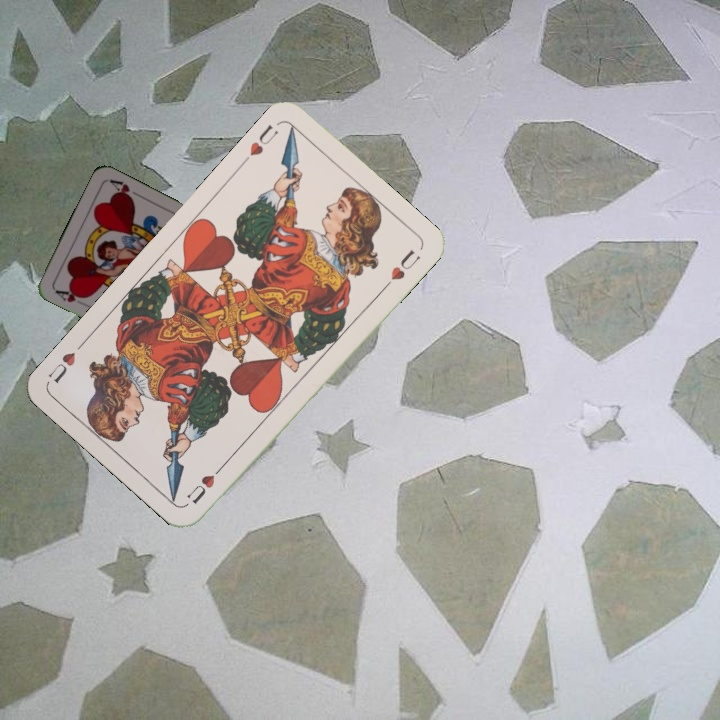HA: (51, 285, 89, 309)
HU: (183, 459, 228, 507), (245, 120, 282, 159)
